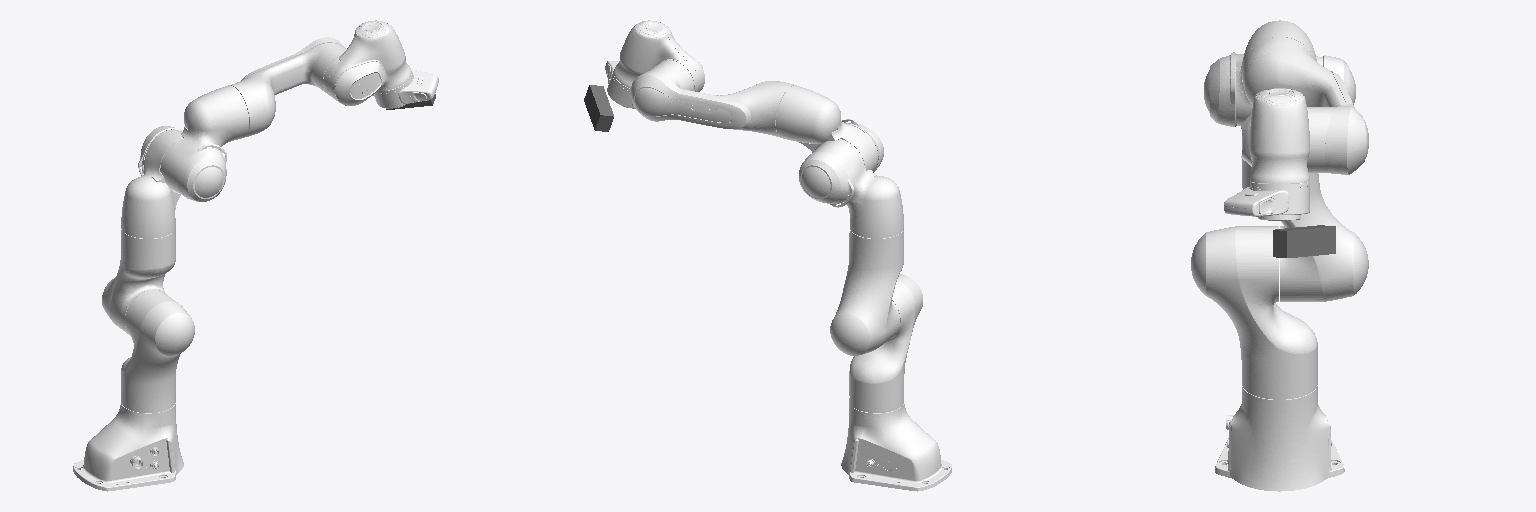
URDF robot description (panda):
<?xml version="1.0" ?>
<!-- =================================================================================== -->
<!-- |    This document was autogenerated by xacro from panda_arm_hand.urdf.xacro      | -->
<!-- |    EDITING THIS FILE BY HAND IS NOT RECOMMENDED                                 | -->
<!-- =================================================================================== -->
<robot name="panda" xmlns:xacro="http://www.ros.org/wiki/xacro">

    <material name="white">
        <color rgba="1.0 1.0 1.0 1.0"/>
      </material>

    <link name="panda_link0">
        <inertial>
            <origin rpy="0 0 0" xyz="0 0 0.05"/>
            <mass value="2.9"/>
            <inertia ixx="0.1" ixy="0" ixz="0" iyy="0.1" iyz="0" izz="0.1"/>
        </inertial>
        <visual>
            <geometry>
                <mesh filename="package://robots/franka_panda/meshes/visual/link0.dae"/>
            </geometry>
            <material name="white"/>
        </visual>
        <collision>
            <geometry>
                <mesh filename="package://robots/franka_panda/meshes/collision/link0.stl"/>
            </geometry>
            <material name="white"/>
        </collision>
    </link>
    <link name="panda_link1">
        <inertial>
            <origin rpy="0 0 0" xyz="0 -0.04 -0.05"/>
            <mass value="2.7"/>
            <inertia ixx="0.1" ixy="0" ixz="0" iyy="0.1" iyz="0" izz="0.1"/>
        </inertial>
        <visual>
            <geometry>
                <mesh filename="package://robots/franka_panda/meshes/visual/link1.dae"/>
            </geometry>
            <material name="white"/>
        </visual>
        <collision>
            <geometry>
                <mesh filename="package://robots/franka_panda/meshes/collision/link1.stl"/>
            </geometry>
            <material name="white"/>
        </collision>
    </link>
    <joint name="panda_joint1" type="revolute">
        <safety_controller k_position="100.0" k_velocity="40.0" soft_lower_limit="-2.8973" soft_upper_limit="2.8973"/>
        <origin rpy="0 0 0" xyz="0 0 0.333"/>
        <parent link="panda_link0"/>
        <child link="panda_link1"/>
        <axis xyz="0 0 1"/>
        <limit effort="87" lower="-2.88" upper="2.88" velocity="2.1750"/>
    </joint>
    <link name="panda_link2">
        <inertial>
            <origin rpy="0 0 0" xyz="0 -0.04 0.06"/>
            <mass value="2.73"/>
            <inertia ixx="0.1" ixy="0" ixz="0" iyy="0.1" iyz="0" izz="0.1"/>
        </inertial>
        <visual>
            <geometry>
                <mesh filename="package://robots/franka_panda/meshes/visual/link2.dae"/>
            </geometry>
            <material name="white"/>
        </visual>
        <collision>
            <geometry>
                <mesh filename="package://robots/franka_panda/meshes/collision/link2.stl"/>
            </geometry>
            <material name="white"/>
        </collision>
    </link>
    <joint name="panda_joint2" type="revolute">
        <safety_controller k_position="100.0" k_velocity="40.0" soft_lower_limit="-1.7628" soft_upper_limit="1.7628"/>
        <origin rpy="-1.57079632679 0 0" xyz="0 0 0"/>
        <parent link="panda_link1"/>
        <child link="panda_link2"/>
        <axis xyz="0 0 1"/>
        <limit effort="87" lower="-1.7628" upper="1.7628" velocity="2.3925"/>
    </joint>
    <link name="panda_link3">
        <inertial>
            <origin rpy="0 0 0" xyz="0.01 0.01 -0.05"/>
            <mass value="2.04"/>
            <inertia ixx="0.1" ixy="0" ixz="0" iyy="0.1" iyz="0" izz="0.1"/>
        </inertial>
        <visual>
            <geometry>
                <mesh filename="package://robots/franka_panda/meshes/visual/link3.dae"/>
            </geometry>
            <material name="white"/>
        </visual>
        <collision>
            <geometry>
                <mesh filename="package://robots/franka_panda/meshes/collision/link3.stl"/>
            </geometry>
            <material name="white"/>
        </collision>
    </link>
    <joint name="panda_joint3" type="revolute">
        <safety_controller k_position="100.0" k_velocity="40.0" soft_lower_limit="-2.8973" soft_upper_limit="2.8973"/>
        <origin rpy="1.57079632679 0 0" xyz="0 -0.316 0"/>
        <parent link="panda_link2"/>
        <child link="panda_link3"/>
        <axis xyz="0 0 1"/>
        <limit effort="87" lower="-2.8973" upper="2.8973" velocity="2.3925"/>
    </joint>
    <link name="panda_link4">
        <inertial>
            <origin rpy="0 0 0" xyz="-0.03 0.03 0.02"/>
            <mass value="2.08"/>
            <inertia ixx="0.1" ixy="0" ixz="0" iyy="0.1" iyz="0" izz="0.1"/>
        </inertial>
        <visual>
            <geometry>
                <mesh filename="package://robots/franka_panda/meshes/visual/link4.dae"/>
            </geometry>
            <material name="white"/>
        </visual>
        <collision>
            <geometry>
                <mesh filename="package://robots/franka_panda/meshes/collision/link4.stl"/>
            </geometry>
            <material name="white"/>
        </collision>
    </link>
    <joint name="panda_joint4" type="revolute">
        <safety_controller k_position="100.0" k_velocity="40.0" soft_lower_limit="-3.0718" soft_upper_limit="0.0175"/>
        <origin rpy="1.57079632679 0 0" xyz="0.0825 0 0"/>
        <parent link="panda_link3"/>
        <child link="panda_link4"/>
        <axis xyz="0 0 1"/>
        <limit effort="87" lower="-2.9718" upper="-0.0825" velocity="2.3925"/>
    </joint>
    <link name="panda_link5">
        <inertial>
            <origin rpy="0 0 0" xyz="0 0.04 -0.12"/>
            <mass value="3"/>
            <inertia ixx="0.1" ixy="0" ixz="0" iyy="0.1" iyz="0" izz="0.1"/>
        </inertial>
        <visual>
            <geometry>
                <mesh filename="package://robots/franka_panda/meshes/visual/link5.dae"/>
            </geometry>
            <material name="white"/>
        </visual>
        <collision>
            <geometry>
                <mesh filename="package://robots/franka_panda/meshes/collision/link5.stl"/>
            </geometry>
            <material name="white"/>
        </collision>
    </link>
    <joint name="panda_joint5" type="revolute">
        <safety_controller k_position="100.0" k_velocity="40.0" soft_lower_limit="-2.8973" soft_upper_limit="2.8973"/>
        <origin rpy="-1.57079632679 0 0" xyz="-0.0825 0.384 0"/>
        <parent link="panda_link4"/>
        <child link="panda_link5"/>
        <axis xyz="0 0 1"/>
        <limit effort="12" lower="-2.7973" upper="2.7973" velocity="2.8710"/>
    </joint>
    <link name="panda_link6">
        <inertial>
            <origin rpy="0 0 0" xyz="0.04 0 0"/>
            <mass value="1.3"/>
            <inertia ixx="0.1" ixy="0" ixz="0" iyy="0.1" iyz="0" izz="0.1"/>
        </inertial>
        <visual>
            <geometry>
                <mesh filename="package://robots/franka_panda/meshes/visual/link6.dae"/>
            </geometry>
            <material name="white"/>
        </visual>
        <collision>
            <geometry>
                <mesh filename="package://robots/franka_panda/meshes/collision/link6.stl"/>
            </geometry>
            <material name="white"/>
        </collision>
    </link>
    <joint name="panda_joint6" type="revolute">
        <safety_controller k_position="100.0" k_velocity="40.0" soft_lower_limit="-0.0175" soft_upper_limit="3.7525"/>
        <origin rpy="1.57079632679 0 0" xyz="0 0 0"/>
        <parent link="panda_link5"/>
        <child link="panda_link6"/>
        <axis xyz="0 0 1"/>
        <limit effort="12" lower="0.0825" upper="3.6525" velocity="2.8710"/>
    </joint>
    <link name="panda_link7">
        <inertial>
            <origin rpy="0 0 0" xyz="0 0 0.08"/>
            <mass value="0.2"/>
            <inertia ixx="0.1" ixy="0" ixz="0" iyy="0.1" iyz="0" izz="0.1"/>
        </inertial>
        <visual>
            <geometry>
                <mesh filename="package://robots/franka_panda/meshes/visual/link7.dae"/>
            </geometry>
            <material name="white"/>
        </visual>
        <collision>
            <geometry>
                <mesh filename="package://robots/franka_panda/meshes/collision/link7.stl"/>
            </geometry>
            <material name="white"/>
        </collision>
    </link>
    <joint name="panda_joint7" type="revolute">
        <safety_controller k_position="100.0" k_velocity="40.0" soft_lower_limit="-2.8973" soft_upper_limit="2.8973"/>
        <origin rpy="1.57079632679 0 0" xyz="0.088 0 0"/>
        <parent link="panda_link6"/>
        <child link="panda_link7"/>
        <axis xyz="0 0 1"/>
        <limit effort="12" lower="-2.7973" upper="2.7973" velocity="2.8710"/>
    </joint>
    <link name="panda_link8">
        <inertial>
            <origin rpy="0 0 0" xyz="0 0 0"/>
            <mass value="0.1"/>
            <inertia ixx="0.1" ixy="0" ixz="0" iyy="0.1" iyz="0" izz="0.1"/>
        </inertial>
    </link>
    <joint name="panda_joint8" type="fixed">
        <origin rpy="0 0 0" xyz="0 0 0.107"/>
        <parent link="panda_link7"/>
        <child link="panda_link8"/>
        <axis xyz="0 0 0"/>
    </joint>

    <!-- CAMERA MOUNT JOINT -->
  <joint name="panda_camera_mount_joint" type="fixed">
    <parent link="panda_link8"/>
    <child link="panda_camera_mount"/>
    <origin rpy="0 0 -0.7853981633974483" xyz="0 0 0"/>
  </joint>
  <link name="panda_camera_mount">
    <inertial>
      <origin rpy="0 0 0" xyz="0 0 0"/>
       <mass value="0.1"/>
       <inertia ixx="0.1" ixy="0" ixz="0" iyy="0.1" iyz="0" izz="0.1"/>
    </inertial>
    <visual>
      <origin rpy="0 0 0" xyz="0.05 0.0 0.03"/>
      <geometry>
        <box size="0.03 0.10 0.04"/>
<!--        <box size="0.05 0.13 0.07"/>-->
      </geometry>
      <material name="panda_white">
        <color rgba="0.5 0.5 0.5 0.5"/>
  	  </material>
    </visual>
    <collision>
      <origin rpy="0 0 0" xyz="0.05 0.0 0.03"/>
      <geometry>
        <box size="0.05 0.13 0.07"/>
      </geometry>
    </collision>
  </link>

    <joint name="panda_hand_joint" type="fixed">
        <parent link="panda_link8"/>
        <child link="panda_hand"/>
        <origin rpy="0 0 -0.785398163397" xyz="0 0 0"/>
    </joint>
    <link name="panda_hand">
        <inertial>
            <origin rpy="0 0 0" xyz="0 0 0.04"/>
            <mass value="0.81"/>
            <inertia ixx="0.1" ixy="0" ixz="0" iyy="0.1" iyz="0" izz="0.1"/>
        </inertial>
        <visual>
            <geometry>
                <mesh filename="package://robots/franka_panda/meshes/collision/hand.stl"/>
            </geometry>
            <material name="white"/>
        </visual>
        <collision>
            <geometry>
                <mesh filename="package://robots/franka_panda/meshes/collision/hand.stl"/>
            </geometry>
        </collision>
        <material name="white"/>
    </link>
    <link name="panda_leftfinger">
        <inertial>
            <origin rpy="0 0 0" xyz="0 0.01 0.02"/>
            <mass value="0.1"/>
            <inertia ixx="0.1" ixy="0" ixz="0" iyy="0.1" iyz="0" izz="0.1"/>
        </inertial>
        <visual>
            <geometry>
                <mesh filename="package://robots/franka_panda/meshes/collision/finger.stl"/>
            </geometry>
            <material name="white"/>
        </visual>
        <collision>
            <geometry>
                <mesh filename="package://robots/franka_panda/meshes/collision/finger.stl"/>
            </geometry>
        </collision>
        <material name="white"/>
    </link>
    <link name="panda_rightfinger">
        <inertial>
            <origin rpy="0 0 0" xyz="0 -0.01 0.02"/>
            <mass value="0.1"/>
            <inertia ixx="0.1" ixy="0" ixz="0" iyy="0.1" iyz="0" izz="0.1"/>
        </inertial>
        <visual>
            <origin rpy="0 0 3.14159265359" xyz="0 0 0"/>
            <geometry>
                <mesh filename="package://robots/franka_panda/meshes/collision/finger.stl"/>
            </geometry>
            <material name="white"/>
        </visual>
        <collision>
            <origin rpy="0 0 3.14159265359" xyz="0 0 0"/>
            <geometry>
                <mesh filename="package://robots/franka_panda/meshes/collision/finger.stl"/>
            </geometry>
        </collision>
        <material name="white"/>
    </link>
    <joint name="panda_finger_joint1" type="prismatic">
        <parent link="panda_hand"/>
        <child link="panda_leftfinger"/>
        <origin rpy="0 0 0" xyz="0 0 0.0584"/>
        <axis xyz="0 1 0"/>
        <limit effort="20" lower="0.0" upper="0.041" velocity="0.2"/>
    </joint>
    <joint name="panda_finger_joint2" type="prismatic">
        <parent link="panda_hand"/>
        <child link="panda_rightfinger"/>
        <origin rpy="0 0 0" xyz="0 0 0.0584"/>
        <axis xyz="0 -1 0"/>
        <limit effort="20" lower="0.0" upper="0.041" velocity="0.2"/>
        <mimic joint="panda_finger_joint1"/>
    </joint>
</robot>

--- What the picture shows (computed from the rendered views, not written in the file) ---
Views: 3 orthographic renders of the robot side by side, from view 1: azimuth 30°, elevation 25°; view 2: azimuth 150°, elevation 25°; view 3: azimuth 270°, elevation 25°.
Robot: panda — 13 links, 12 joints (7 revolute, 2 prismatic, 3 fixed); root link panda_link0; default pose: joints at zero except 2 at the middle of their limits (panda_joint4 = -1.53, panda_joint6 = 1.87).
Links seen in each view (by area): view 1: panda_link0, panda_link1, panda_link4, panda_link6, panda_link3, panda_link5, panda_link2, panda_link7; view 2: panda_link0, panda_link5, panda_link2, panda_link3, panda_link1, panda_link4, panda_link6, panda_camera_mount, panda_link7; view 3: panda_link1, panda_link0, panda_link5, panda_link2, panda_link6, panda_link4, panda_link7, panda_camera_mount, panda_link3.
Link boxes in pixels (x1,y1,x2,y2): panda_link0: [73, 403, 183, 491]; panda_link1: [121, 290, 194, 412]; panda_link4: [160, 85, 248, 201]; panda_link6: [323, 20, 411, 105]; panda_link3: [121, 126, 182, 238]; panda_link5: [231, 37, 346, 136]; panda_link2: [102, 229, 175, 333]; panda_link7: [372, 69, 438, 108]; panda_link0: [841, 402, 951, 491]; panda_link5: [631, 60, 793, 137]; panda_link2: [830, 230, 903, 355]; panda_link3: [799, 139, 903, 238]; panda_link1: [849, 274, 922, 412]; panda_link4: [776, 85, 883, 172]; panda_link6: [614, 20, 704, 91]; panda_camera_mount: [584, 85, 613, 131]; panda_link7: [605, 61, 635, 108]; panda_link1: [1191, 226, 1317, 399]; panda_link0: [1215, 385, 1344, 491]; panda_link5: [1242, 37, 1368, 174]; panda_link2: [1242, 159, 1368, 301]; panda_link6: [1241, 88, 1309, 183]; panda_link4: [1204, 20, 1316, 126]; panda_link7: [1224, 181, 1309, 220]; panda_camera_mount: [1273, 225, 1335, 257]; panda_link3: [1316, 55, 1355, 104].
Size in the robot's own frame: 0.8286 by 0.2593 by 0.8543 metres.
8 mesh visuals loaded from 10 distinct referenced files (8 Collada DAE); not drawn: 3 (reference not matched to a file when rendering).